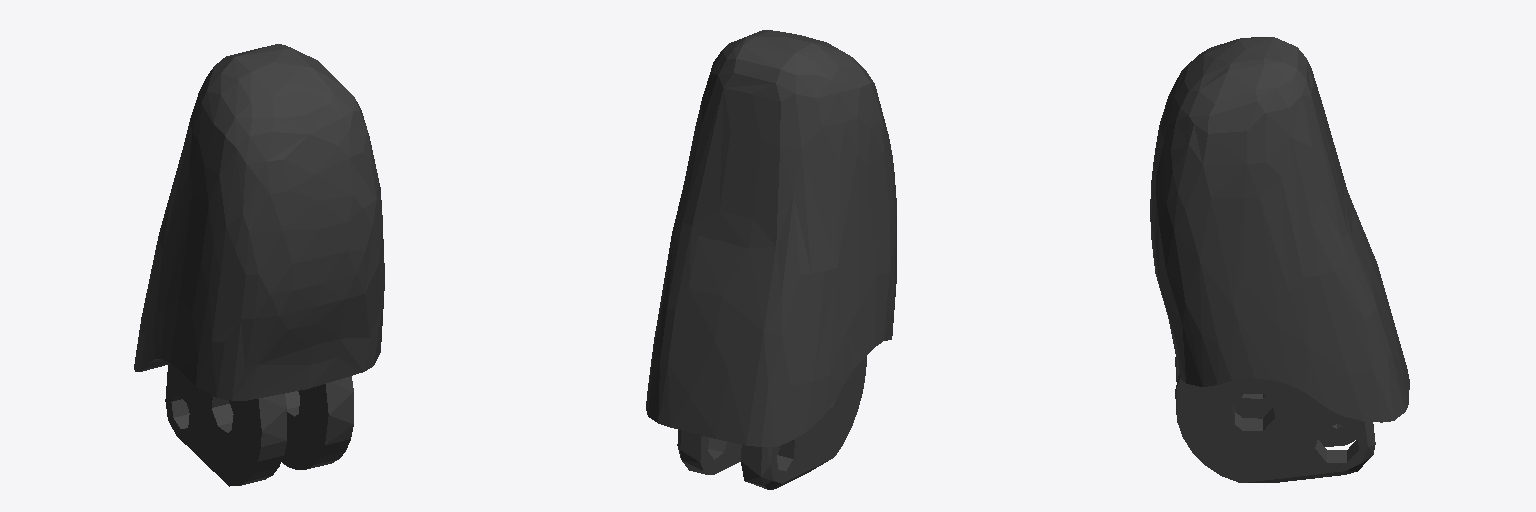
File: R_thumb_distal.obj
The picture shows the model from 3 angles: view 1: azimuth 30°, elevation 25°; view 2: azimuth 150°, elevation 25°; view 3: azimuth 270°, elevation 25°; orthographic projection.
Size of the model in its own units: 0.0147 by 0.0302 by 0.0171.